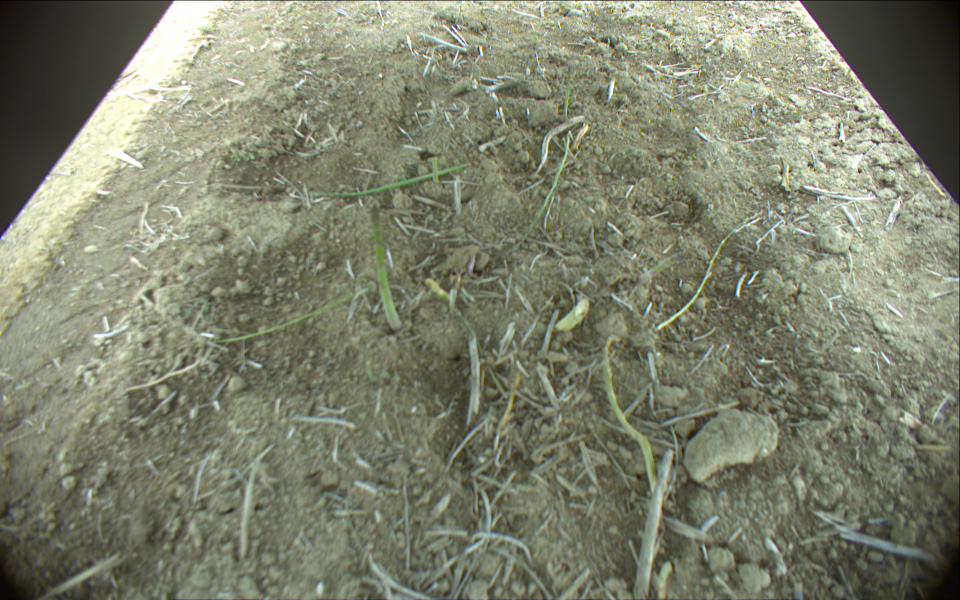aspa: (602, 337, 660, 492), (213, 291, 358, 344), (318, 166, 472, 197), (370, 204, 400, 332), (560, 61, 575, 125)
